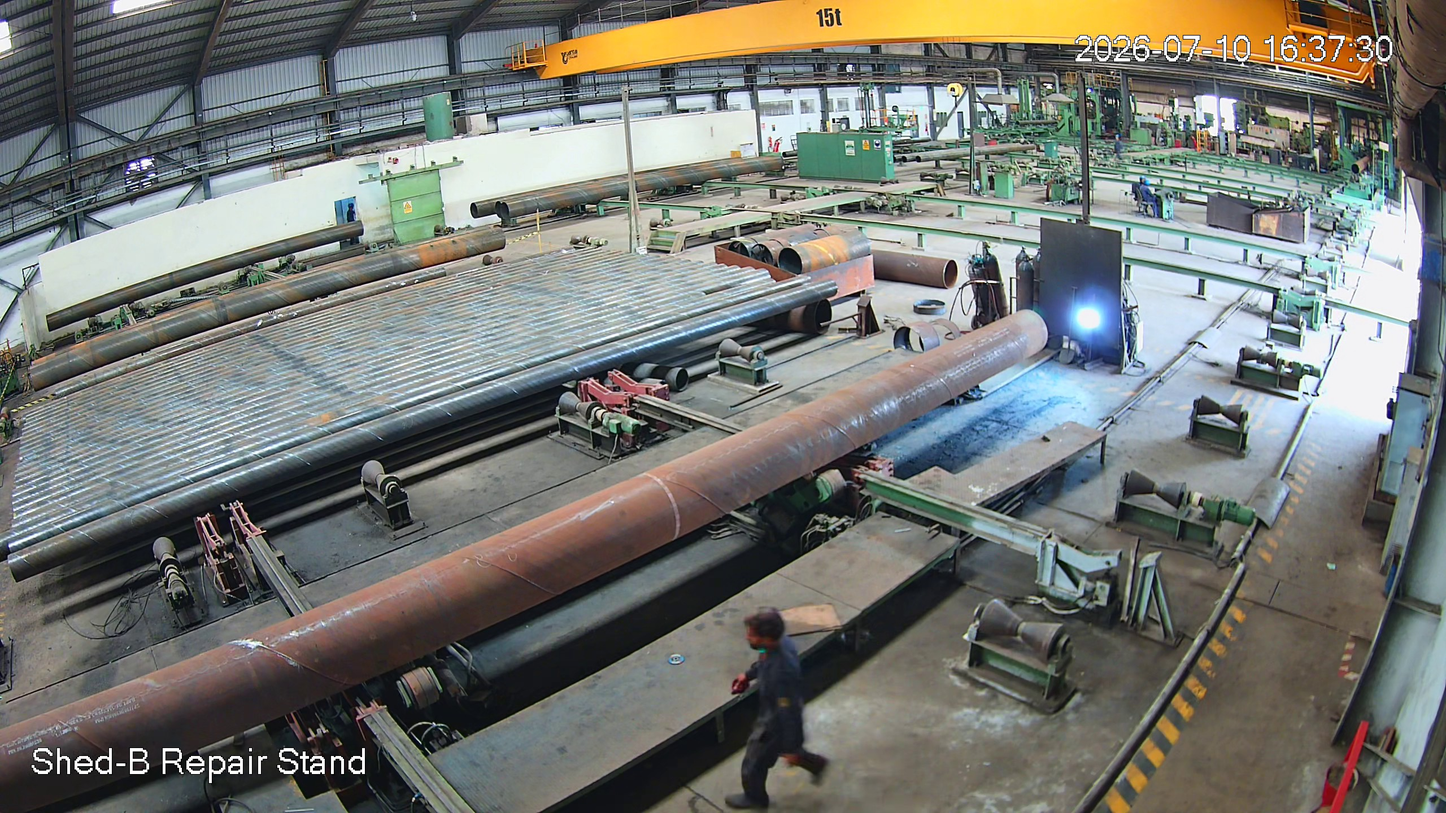Person: (722, 596, 823, 807)
